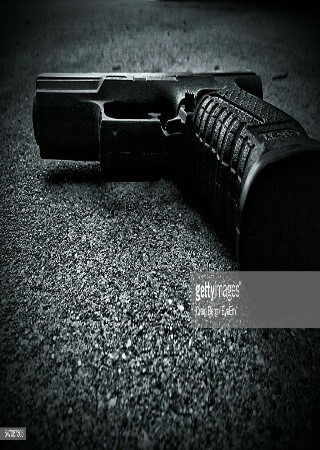handgun: (30, 67, 319, 228)
